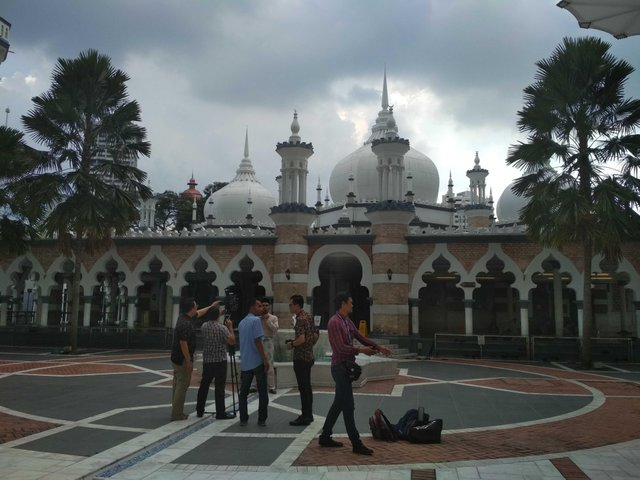Mosque: (52, 89, 561, 307)
